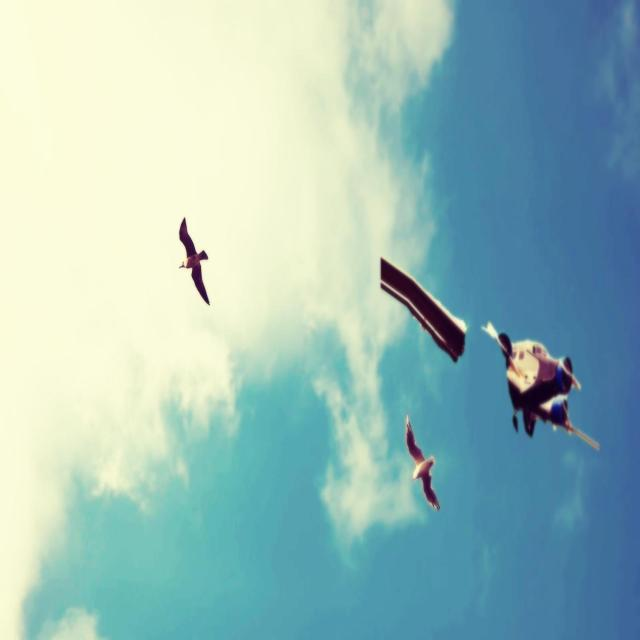airplane: (480, 319, 600, 452), (380, 255, 468, 363)
